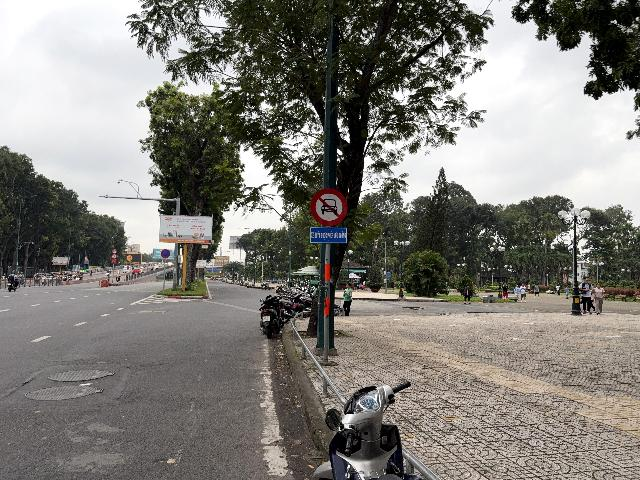cam-o-to: (310, 188, 348, 226)
